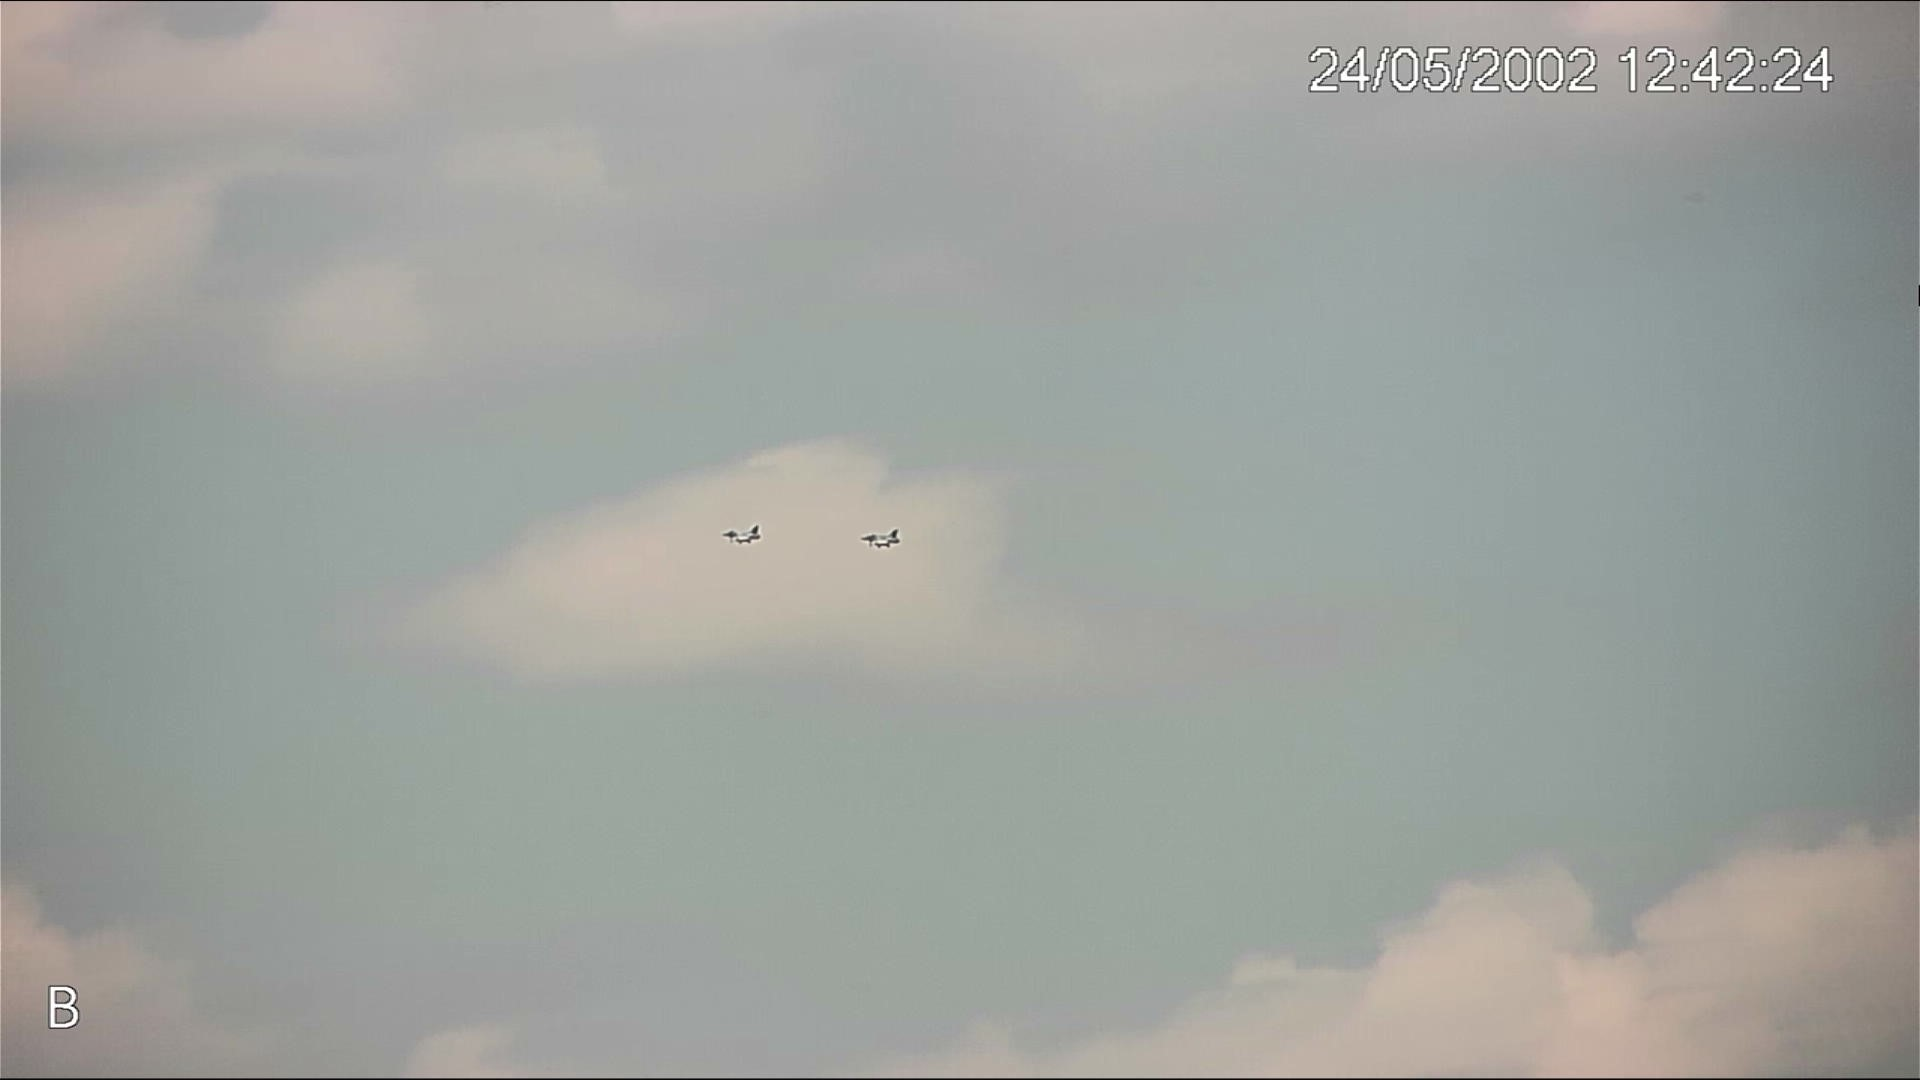SU_30: (720, 524, 762, 545), (858, 527, 901, 549)
